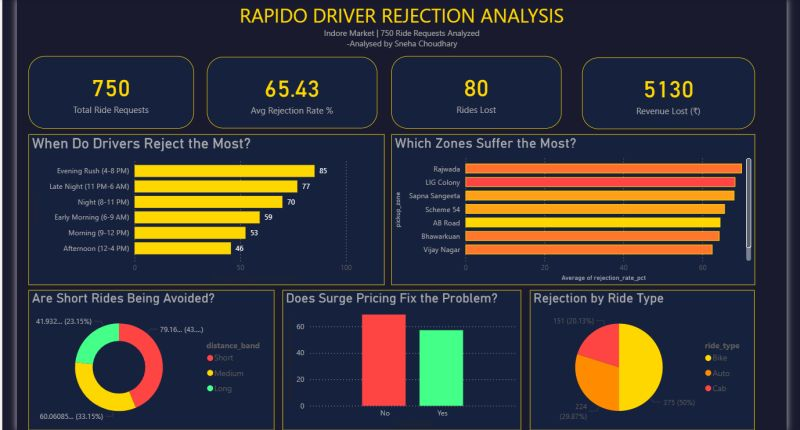

The dashboard page shown, as its layout file describes it:
{"tool":"powerbi","page":{"name":"Page 1","canvas":[1280,720],"ordinal":0},"visuals":[{"type":"textbox","box":[0,0,1280,95.3],"z":0},{"type":"card","fields":{"Values":["Count(Rapido_Ride_Rejection_Data_v3_1.request_id)"]},"box":[19.3,95.3,275.1,120.6],"z":1000},{"type":"card","fields":{"Values":["Avg(Rapido_Ride_Rejection_Data_v3_1.rejection_rate_pct)"]},"box":[316.1,96.5,283.5,119.4],"z":2000},{"type":"card","fields":{"Values":["CountNonNull(Rapido_Ride_Rejection_Data_v3_1.final_status)"]},"box":[622.5,95.3,283.5,120.6],"z":3000},{"type":"card","fields":{"Values":["Sum(Rapido_Ride_Rejection_Data_v3_1.estimated_fare_inr)"]},"box":[939.8,97.7,287.1,119.4],"z":4000},{"type":"clusteredBarChart","title":"When Do Drivers Reject the Most?","fields":{"Category":["Rapido_Ride_Rejection_Data_v3_1.time_slot"],"Y":["Avg(Rapido_Ride_Rejection_Data_v3_1.rejection_rate_pct)"]},"box":[19.3,225.6,592.4,250.9],"z":5000},{"type":"clusteredBarChart","title":"Which Zones Suffer the Most?","fields":{"Category":["Rapido_Ride_Rejection_Data_v3_1.pickup_zone"],"Y":["Avg(Rapido_Ride_Rejection_Data_v3_1.rejection_rate_pct)"]},"box":[622.5,225.6,604.4,250.9],"z":6000},{"type":"donutChart","title":"Are Short Rides Being Avoided?","fields":{"Category":["Rapido_Ride_Rejection_Data_v3_1.distance_band"],"Y":["Avg(Rapido_Ride_Rejection_Data_v3_1.rejection_rate_pct)"]},"box":[18.8,485.5,408.8,234],"z":7000},{"type":"clusteredColumnChart","title":"Does Surge Pricing Fix the Problem?","fields":{"Category":["Rapido_Ride_Rejection_Data_v3_1.surge_active"],"Y":["Avg(Rapido_Ride_Rejection_Data_v3_1.rejection_rate_pct)"]},"box":[441.1,485.5,396.7,234],"z":8000},{"type":"pieChart","title":"Rejection by Ride Type","fields":{"Category":["Rapido_Ride_Rejection_Data_v3_1.ride_type"],"Y":["CountNonNull(Rapido_Ride_Rejection_Data_v3_1.request_id)"]},"box":[852.6,485.5,373.9,234],"z":9000}]}

Visuals, with their boxes on the page's 1280x720 design canvas (x1, y1, x2, y2). These are canvas units, not pixel positions in the 800x430 screenshot, which may show the page scaled, cropped or inside an application window:
textbox: box=[0, 0, 1280, 95]
card - Count(Rapido_Ride_Rejection_Data_v3_1.request_id): box=[19, 95, 294, 216]
card - Avg(Rapido_Ride_Rejection_Data_v3_1.rejection_rate_pct): box=[316, 96, 600, 216]
card - CountNonNull(Rapido_Ride_Rejection_Data_v3_1.final_status): box=[622, 95, 906, 216]
card - Sum(Rapido_Ride_Rejection_Data_v3_1.estimated_fare_inr): box=[940, 98, 1227, 217]
"When Do Drivers Reject the Most?" clusteredBarChart: box=[19, 226, 612, 476]
"Which Zones Suffer the Most?" clusteredBarChart: box=[622, 226, 1227, 476]
"Are Short Rides Being Avoided?" donutChart: box=[19, 486, 428, 720]
"Does Surge Pricing Fix the Problem?" clusteredColumnChart: box=[441, 486, 838, 720]
"Rejection by Ride Type" pieChart: box=[853, 486, 1226, 720]
